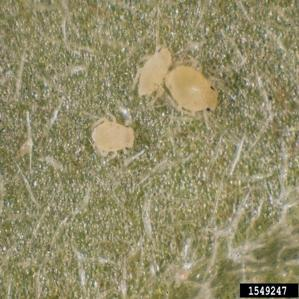Green peach aphid: (114, 28, 174, 104), (157, 52, 222, 120), (84, 107, 150, 166)
